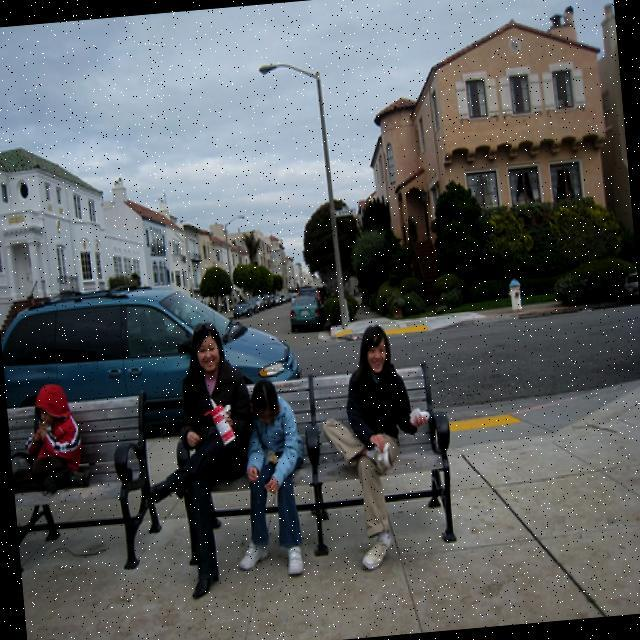fire_hydrant: (507, 276, 522, 311)
